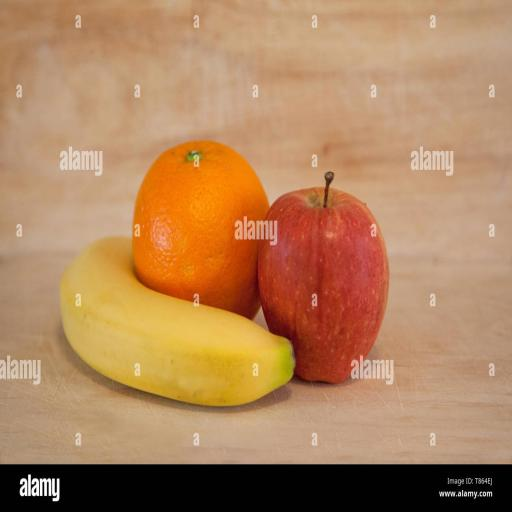apple: (258, 173, 389, 382)
banana: (60, 238, 294, 405)
orange: (133, 141, 268, 318)
